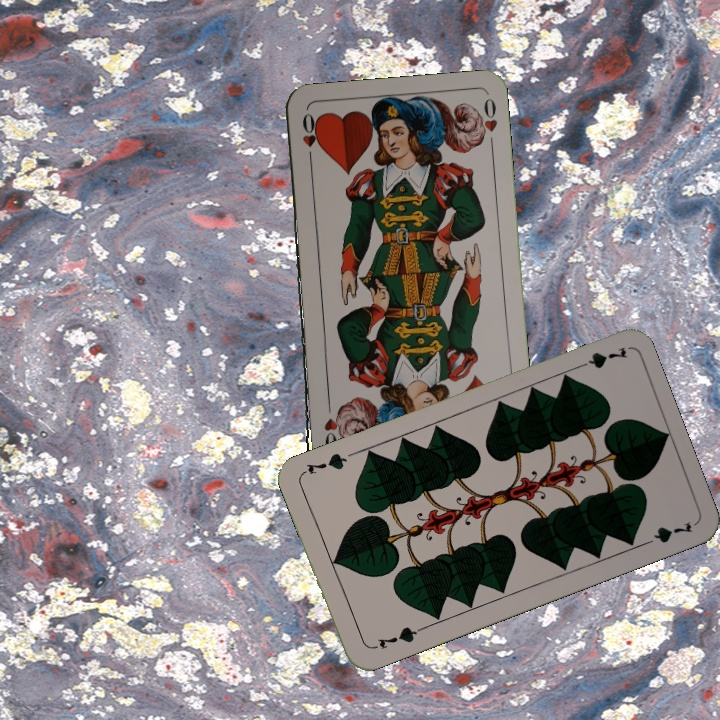G7: (571, 342, 630, 372), (374, 622, 424, 652)
HO: (298, 109, 317, 168)
